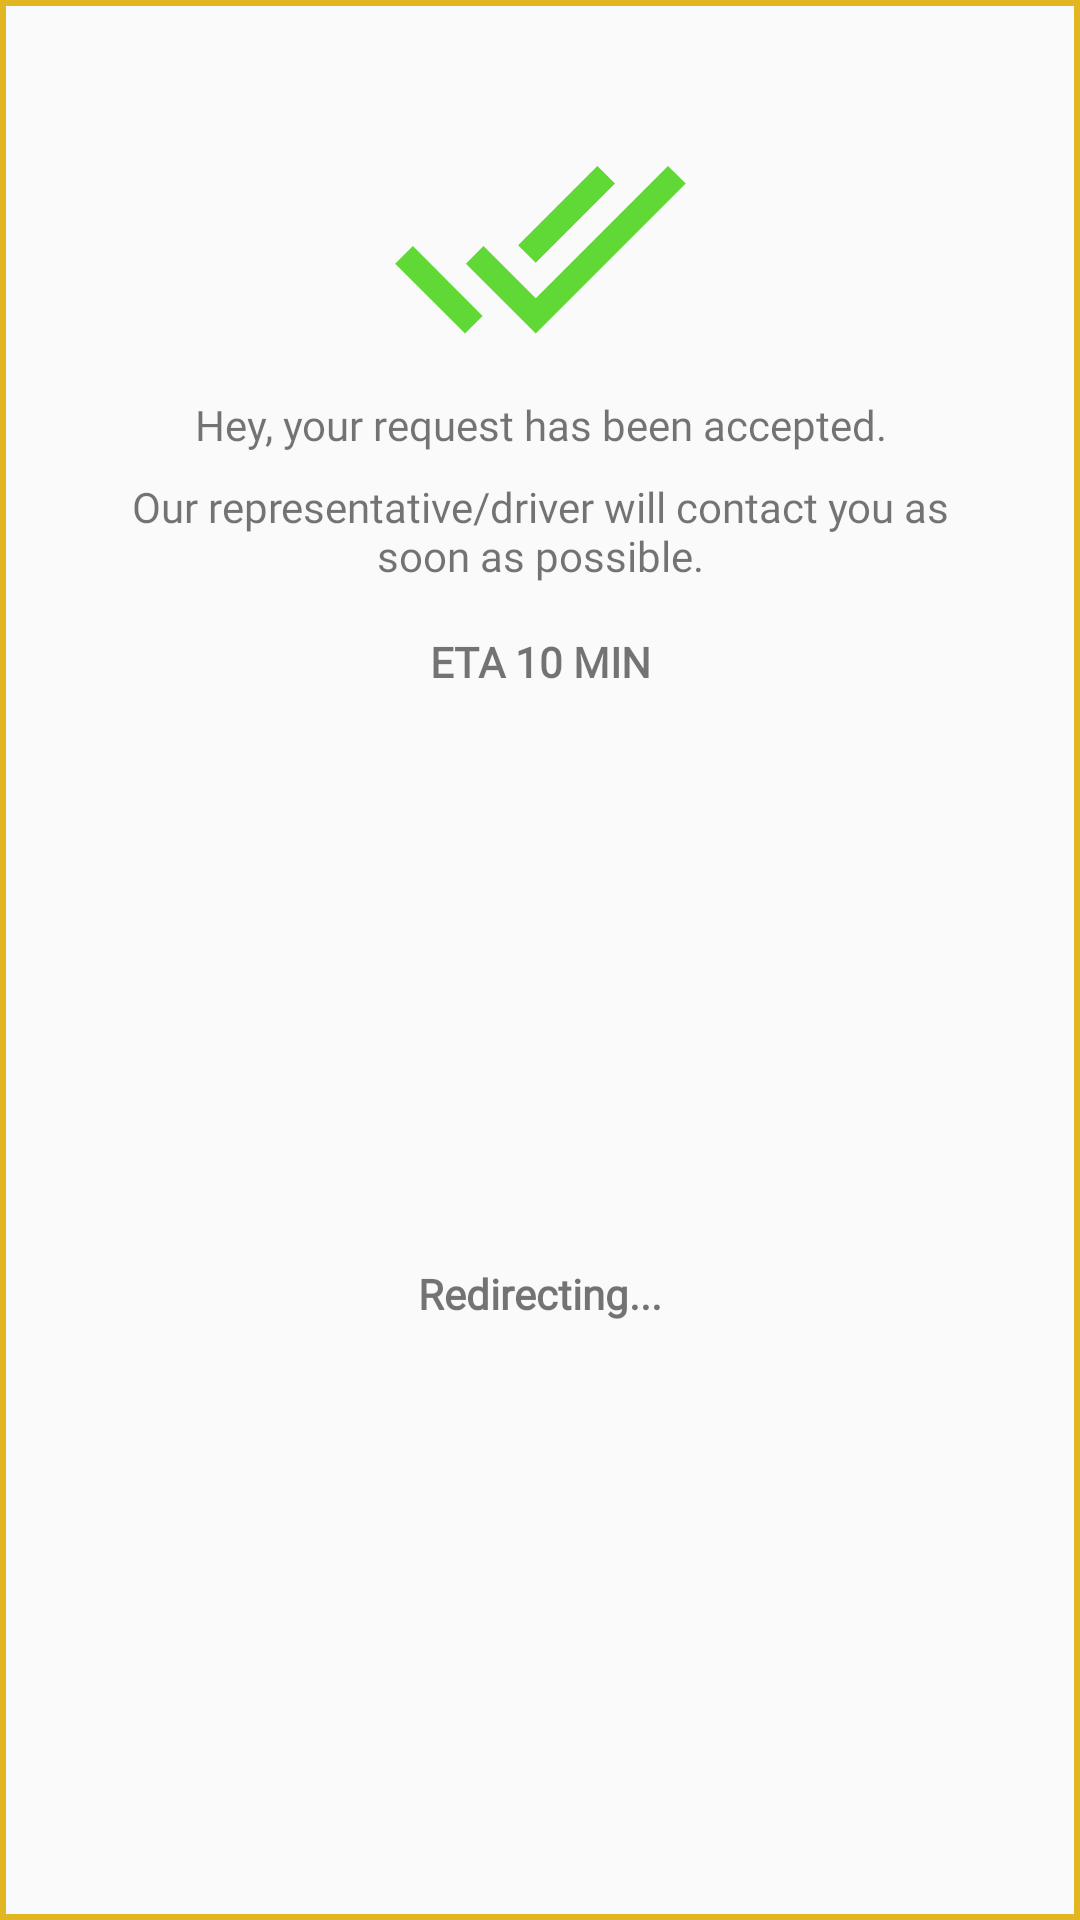

Screen size 1080px×1920px. Icon name, then its center in pixels as (x=x, y=y):
done all: (x=540, y=250)
